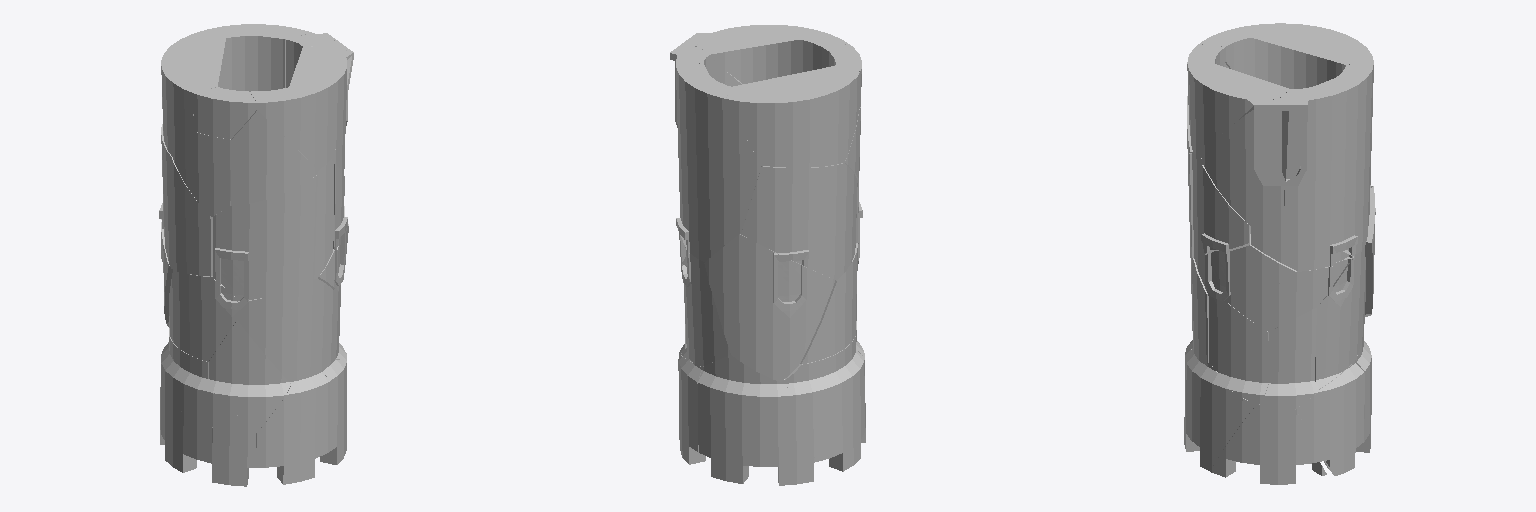
Rendered from destruction_tower_000009.obj.
The picture shows the model from 3 angles: view 1: azimuth 30°, elevation 25°; view 2: azimuth 150°, elevation 25°; view 3: azimuth 270°, elevation 25°; orthographic projection.
Parts seen in each view (by area): view 1: tower.001_cell.024_Mesh.024, tower.001_cell.028_Mesh.028, tower.001_cell.021_Mesh.021, tower.001_cell.006_Mesh.006, tower.001_cell.011_Mesh.011, tower.001_cell.002_Mesh.002, tower.001_cell.013_Mesh.013, tower.001_cell.015_Mesh.015, tower.001_cell.009_Mesh.009, tower.001_cell.017_Mesh.017, tower.001_cell.003_Mesh.003, tower.001_cell.014_Mesh.014 (+10 smaller); view 2: tower.001_cell.025_Mesh.025, tower.001_cell.017_Mesh.017, tower.001_cell.007_Mesh.007, tower.001_cell.015_Mesh.015, tower.001_cell.003_Mesh.003, tower.001_cell.028_Mesh.028, tower.001_cell.005_Mesh.005, tower.001_cell.012_Mesh.012, tower.001_cell.009_Mesh.009, tower.001_cell.029_Mesh.029, tower.001_cell.006_Mesh.006, tower.001_cell.026_Mesh.026 (+2 smaller); view 3: tower.001_cell.017_Mesh.017, tower.001_cell.020_Mesh.020, tower.001_cell.015_Mesh.015, tower.001_cell.028_Mesh.028, tower.001_cell.030_Mesh.030, tower.001_cell.029_Mesh.029, tower.001_cell_Mesh, tower.001_cell.012_Mesh.012, tower.001_cell.016_Mesh.016, tower.001_cell.023_Mesh.023, tower.001_cell.010_Mesh.010, tower.001_cell.027_Mesh.027 (+9 smaller).
Part boxes in pixels (bbox=[...]): tower.001_cell.024_Mesh.024: bbox=[213, 175, 317, 301]; tower.001_cell.028_Mesh.028: bbox=[250, 46, 353, 170]; tower.001_cell.021_Mesh.021: bbox=[237, 279, 333, 383]; tower.001_cell.006_Mesh.006: bbox=[164, 388, 255, 486]; tower.001_cell.011_Mesh.011: bbox=[256, 374, 329, 484]; tower.001_cell.002_Mesh.002: bbox=[230, 110, 317, 205]; tower.001_cell.013_Mesh.013: bbox=[207, 320, 290, 432]; tower.001_cell.015_Mesh.015: bbox=[161, 30, 225, 156]; tower.001_cell.009_Mesh.009: bbox=[169, 270, 237, 361]; tower.001_cell.017_Mesh.017: bbox=[205, 24, 311, 91]; tower.001_cell.003_Mesh.003: bbox=[159, 124, 212, 276]; tower.001_cell.014_Mesh.014: bbox=[173, 131, 230, 216]; tower.001_cell.025_Mesh.025: bbox=[704, 234, 834, 381]; tower.001_cell.017_Mesh.017: bbox=[676, 58, 761, 261]; tower.001_cell.007_Mesh.007: bbox=[698, 355, 815, 485]; tower.001_cell.015_Mesh.015: bbox=[726, 66, 859, 167]; tower.001_cell.003_Mesh.003: bbox=[741, 163, 857, 280]; tower.001_cell.028_Mesh.028: bbox=[696, 25, 847, 84]; tower.001_cell.005_Mesh.005: bbox=[785, 336, 864, 461]; tower.001_cell.012_Mesh.012: bbox=[681, 253, 730, 366]; tower.001_cell.009_Mesh.009: bbox=[800, 243, 859, 363]; tower.001_cell.029_Mesh.029: bbox=[678, 354, 702, 464]; tower.001_cell.006_Mesh.006: bbox=[829, 354, 865, 471]; tower.001_cell.026_Mesh.026: bbox=[670, 46, 720, 127]; tower.001_cell.017_Mesh.017: bbox=[1314, 61, 1373, 256]; tower.001_cell.020_Mesh.020: bbox=[1201, 98, 1288, 225]; tower.001_cell.015_Mesh.015: bbox=[1251, 23, 1373, 88]; tower.001_cell.028_Mesh.028: bbox=[1187, 44, 1289, 155]; tower.001_cell.030_Mesh.030: bbox=[1210, 404, 1325, 484]; tower.001_cell.029_Mesh.029: bbox=[1296, 360, 1364, 475]; tower.001_cell_Mesh: bbox=[1208, 294, 1268, 404]; tower.001_cell.012_Mesh.012: bbox=[1316, 247, 1365, 388]; tower.001_cell.016_Mesh.016: bbox=[1265, 308, 1318, 408]; tower.001_cell.023_Mesh.023: bbox=[1193, 363, 1255, 470]; tower.001_cell.010_Mesh.010: bbox=[1196, 234, 1296, 302]; tower.001_cell.027_Mesh.027: bbox=[1229, 257, 1353, 331].
Bounding box in the file's own units: 44.77 × 97.37 × 43.82.